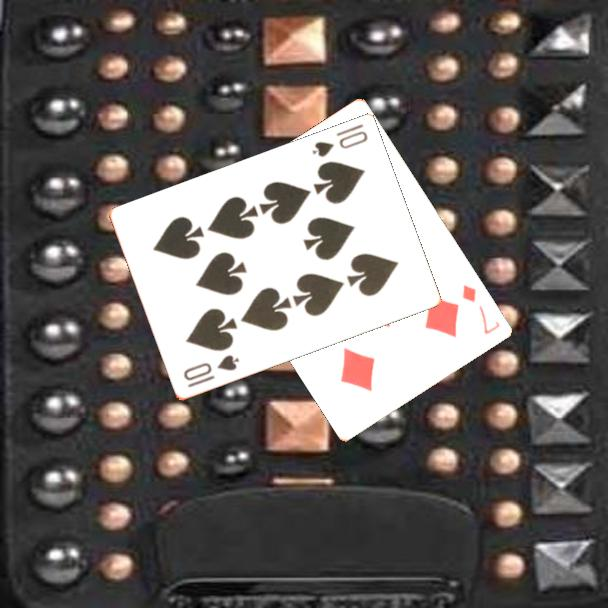d07: (459, 281, 504, 337)
s10: (180, 351, 242, 391), (308, 121, 370, 160)
